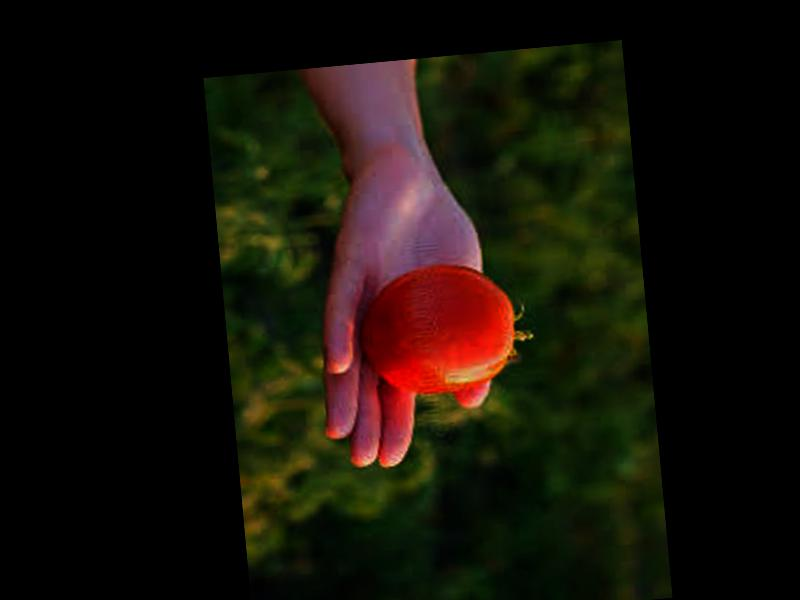Tomato: (352, 260, 519, 398)
